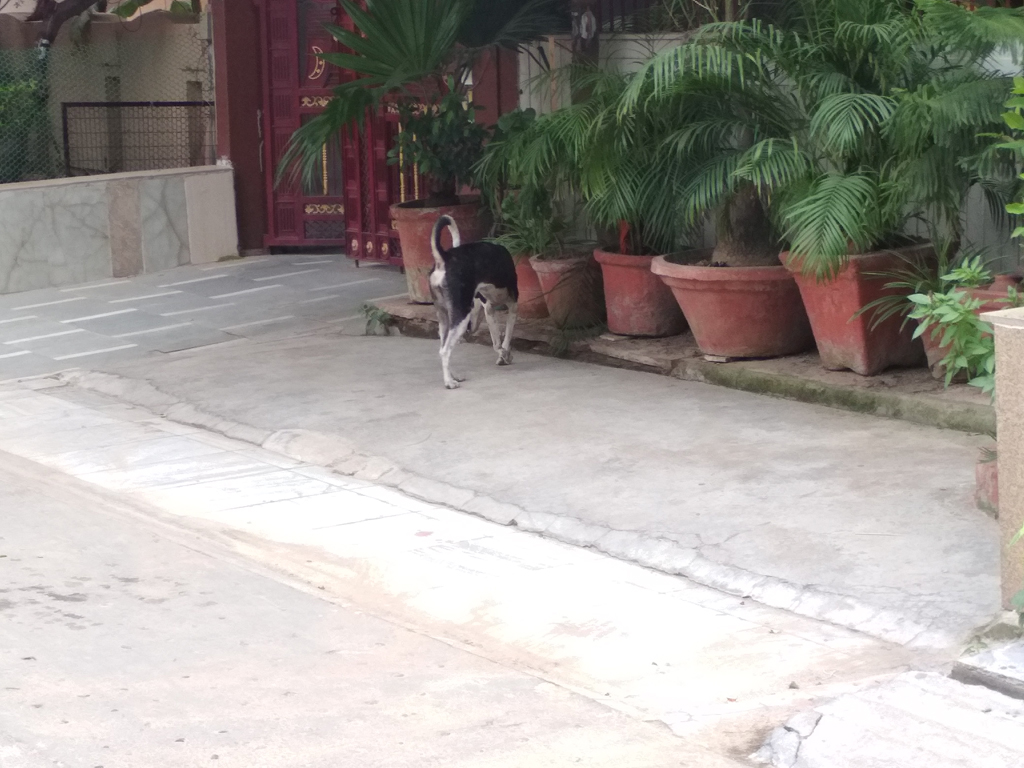dog: (429, 213, 519, 389)
